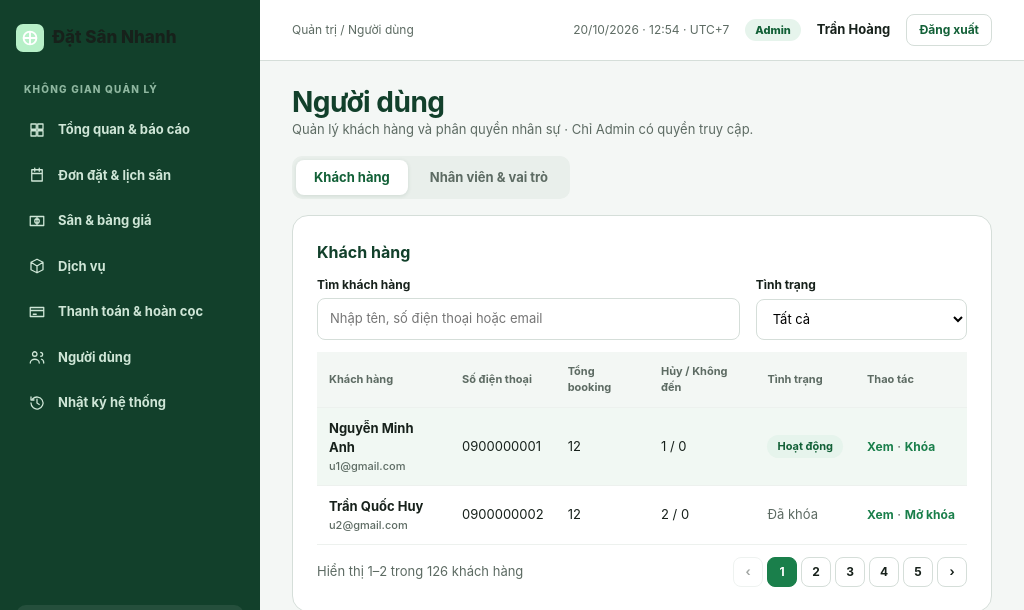
it: Người dùng - tab Nhân viên & vai trò › cấp Admin: hỏi xác nhận rồi gửi PATCH role=Admin
Click the tab "Nhân viên & vai trò".
click(489, 177)  # box [412, 160, 566, 195]
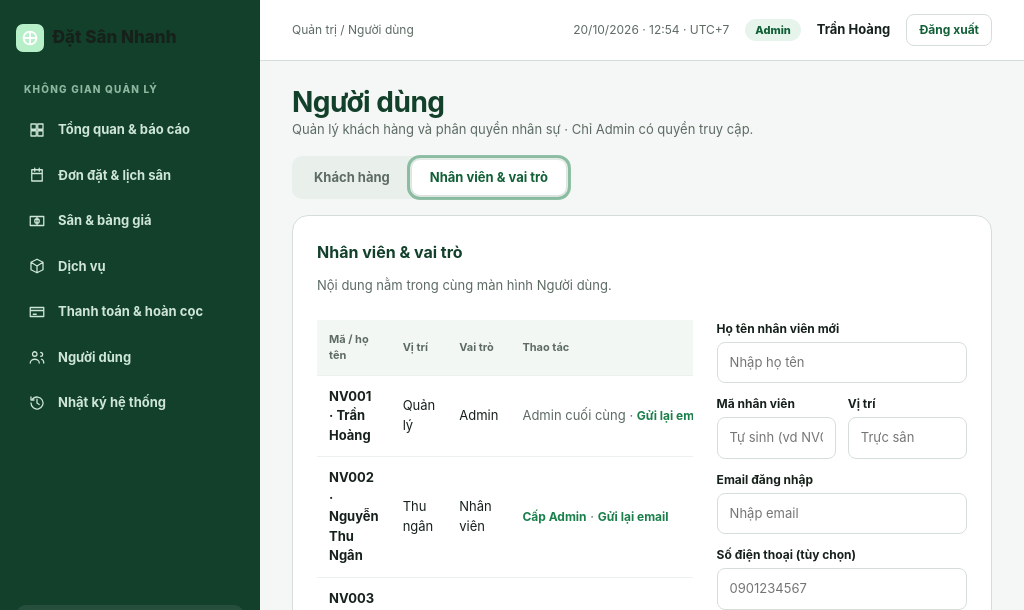
Expected: the column heading "NV001 · Trần Hoàng" is shown, [317, 375, 391, 456]
Click the button named "Cấp Admin cho Nguyễn Thu Ngân".
click(554, 517)  # box [522, 508, 587, 526]
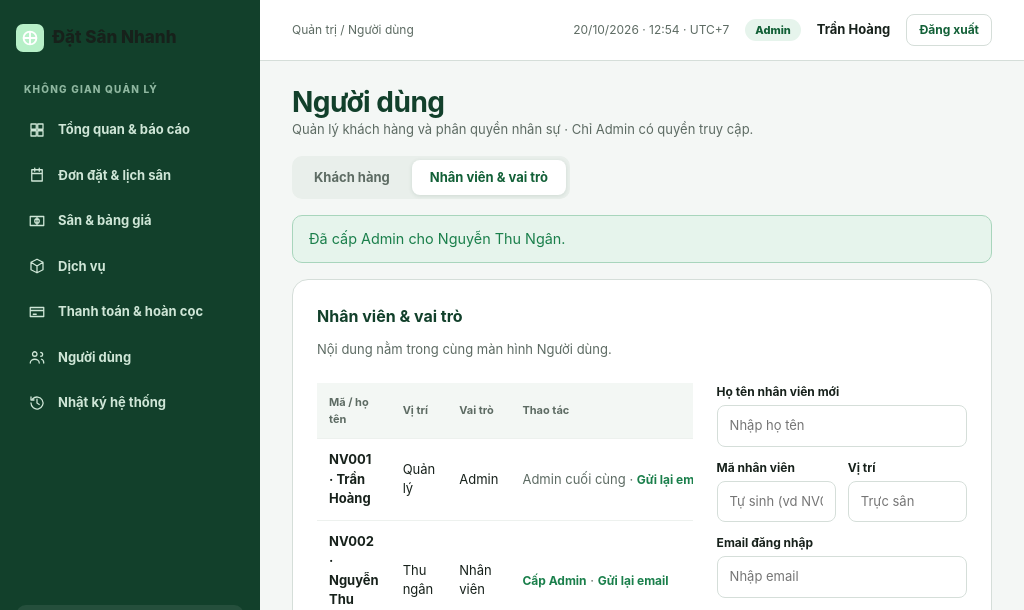
Expected: the text "Đã cấp Admin cho Nguyễn Thu Ngân." is shown, [292, 215, 992, 263]
